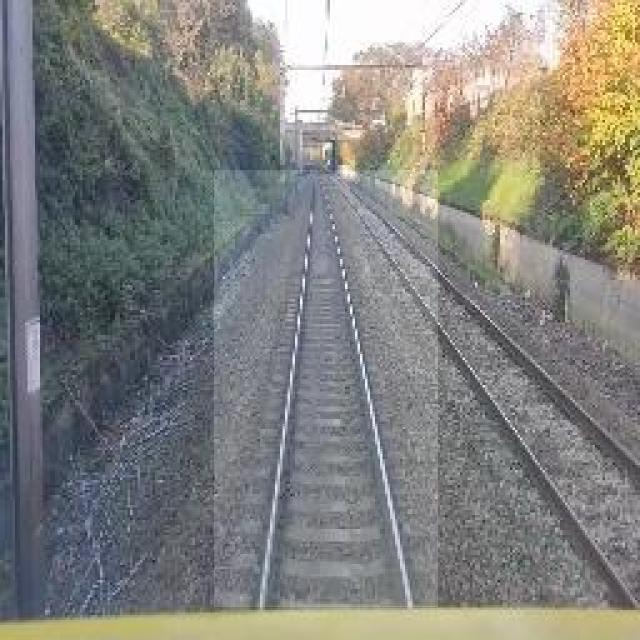rail: (216, 172, 439, 608)
